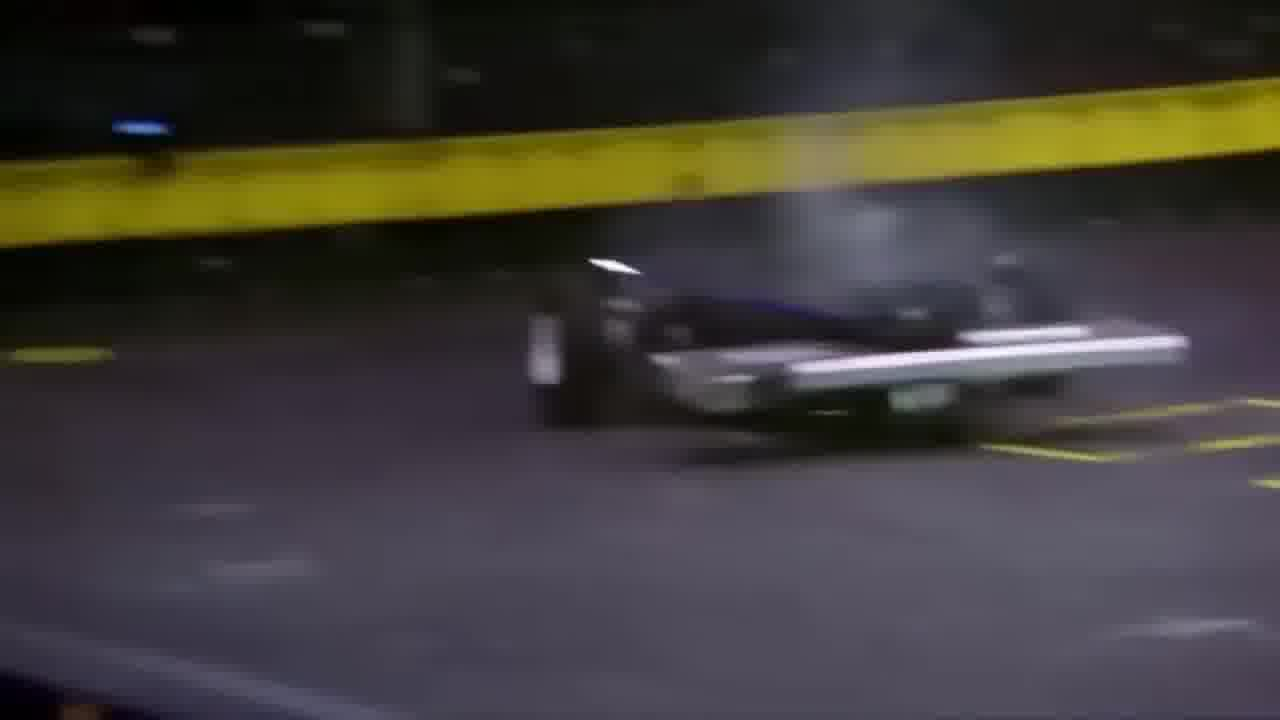combatbot: (509, 259, 1181, 464)
